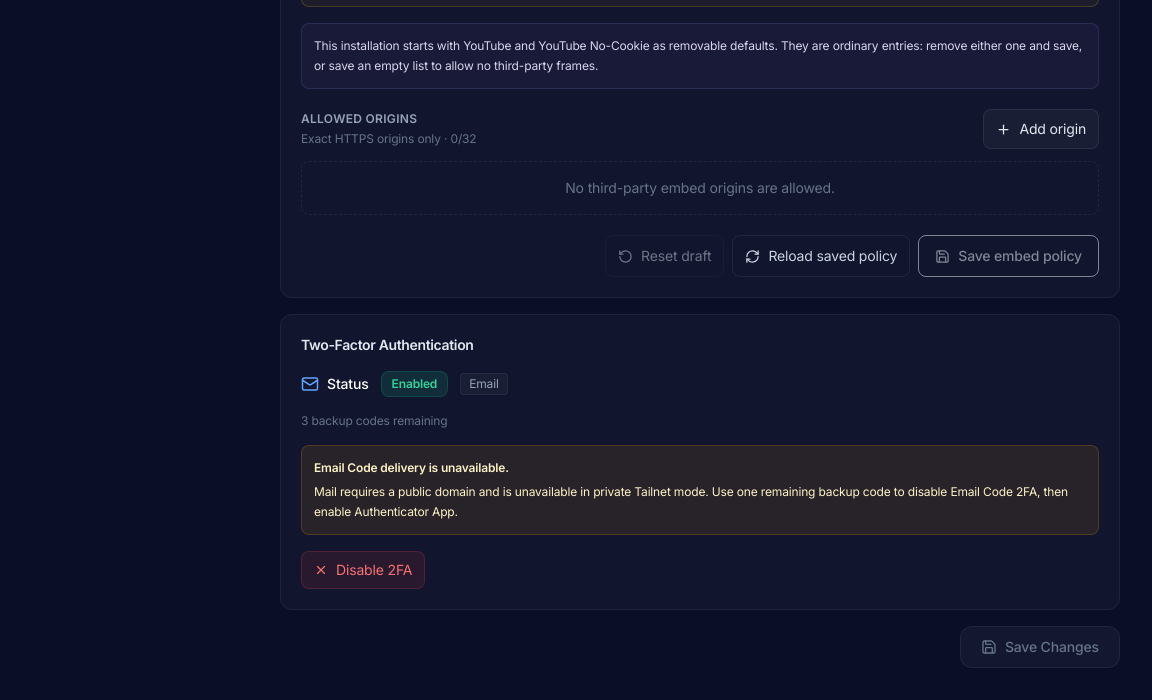
Test: SettingsPage synchronous action ownership › uses an exact backup code to disable legacy Email Code in private mode without sending mail
(page scrolled)
Check: the text "Email Code delivery is unavailable." is shown, box [314, 460, 509, 475]
Click the button "Disable 2FA" at (363, 570), box [301, 551, 425, 589]
(page scrolled)
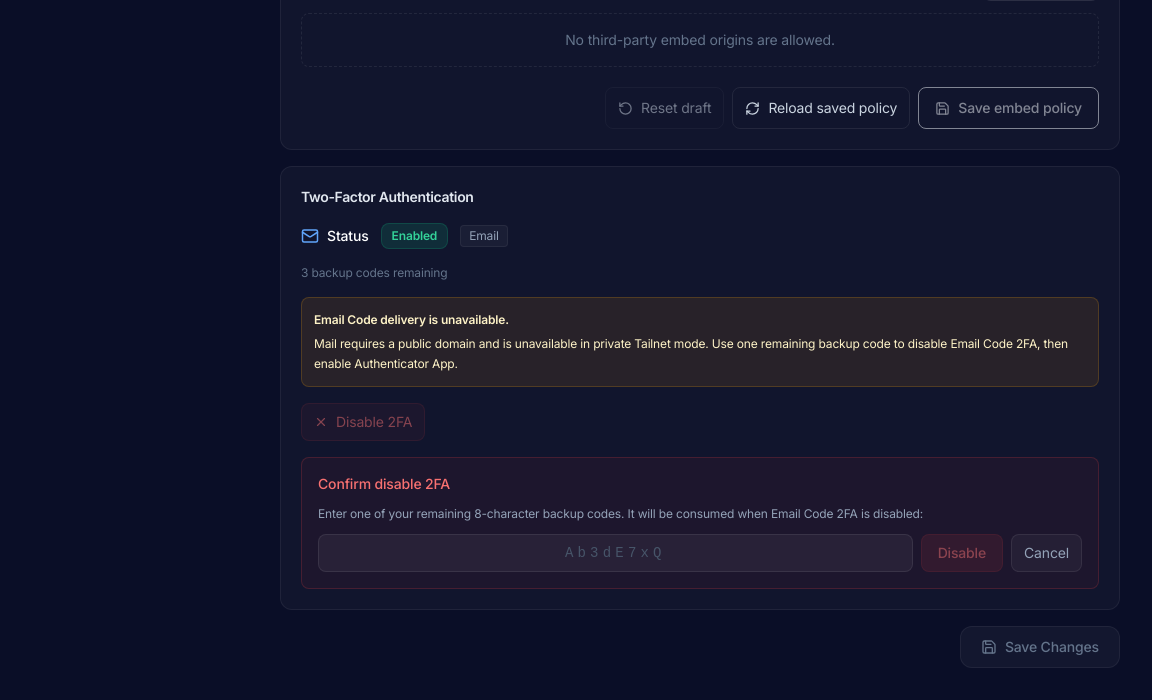
Check: the text "remaining 8-character backup codes" is shown, box [318, 506, 923, 521]
Type "aB3dE7xQ" into the field named "Code to disable two-factor authentication" at (615, 553), box [318, 534, 913, 572]
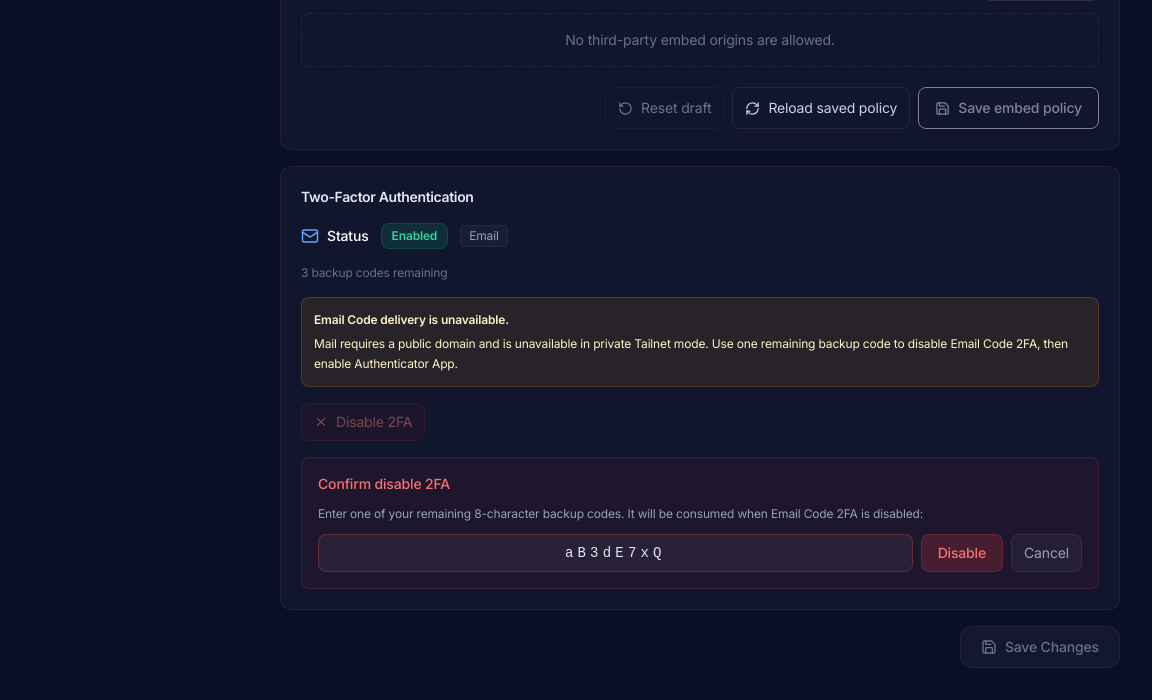
Click the button with aria-label "Disable two-factor authentication" at (962, 553), box [921, 534, 1003, 572]
(page scrolled)
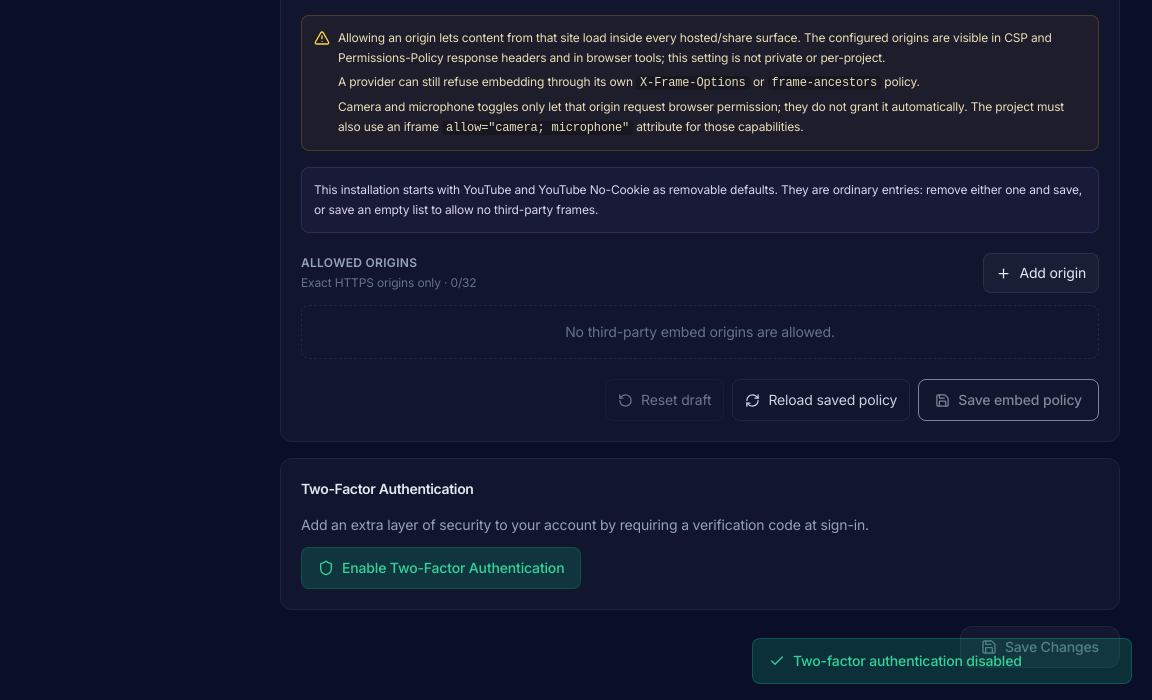
Check: the button "Enable Two-Factor Authentication" is enabled, box [301, 547, 581, 589]
